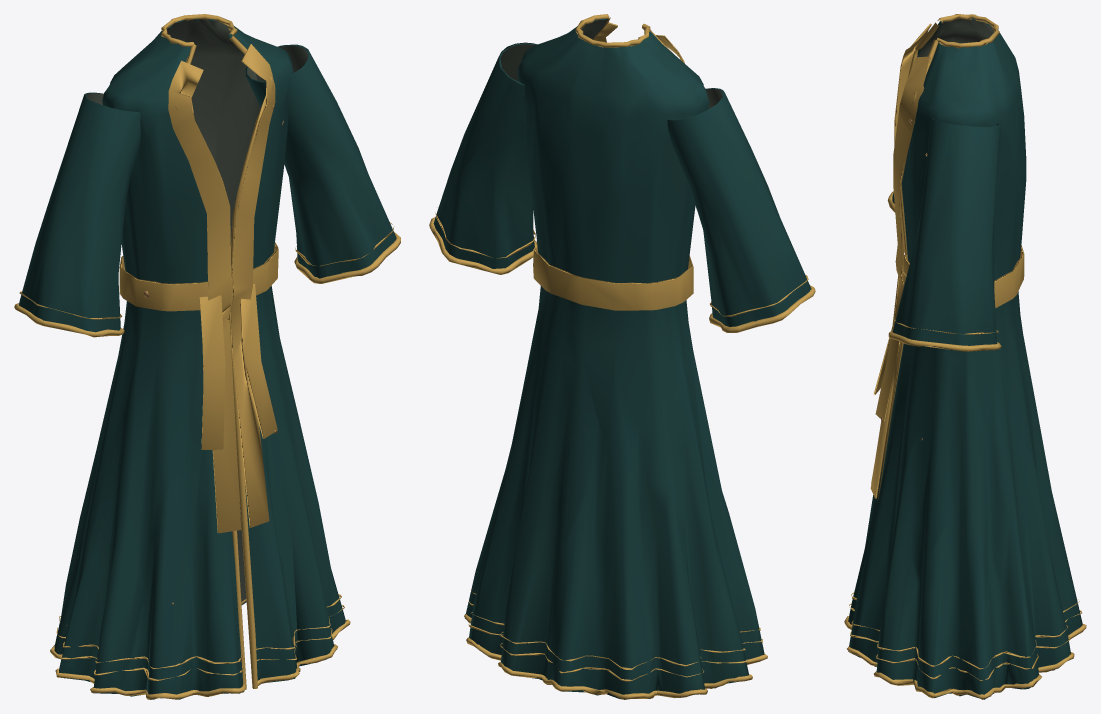
3 views of the same model, side by side, from view 1: azimuth 30°, elevation 25°; view 2: azimuth 150°, elevation 25°; view 3: azimuth 270°, elevation 25° (orthographic).
Visible parts, largest first — view 1: woven wool, peened pin; view 2: woven wool, peened pin; view 3: woven wool, peened pin.
Part boxes in pixels (box(x1,y1,x2,y2)): woven wool: box(19, 18, 396, 699); peened pin: box(14, 14, 400, 699); woven wool: box(433, 18, 811, 699); peened pin: box(429, 14, 815, 699); woven wool: box(848, 18, 1082, 699); peened pin: box(844, 14, 1086, 699).
Bounding box in the file's own units: 0.8673 × 1.42 × 0.5064.
